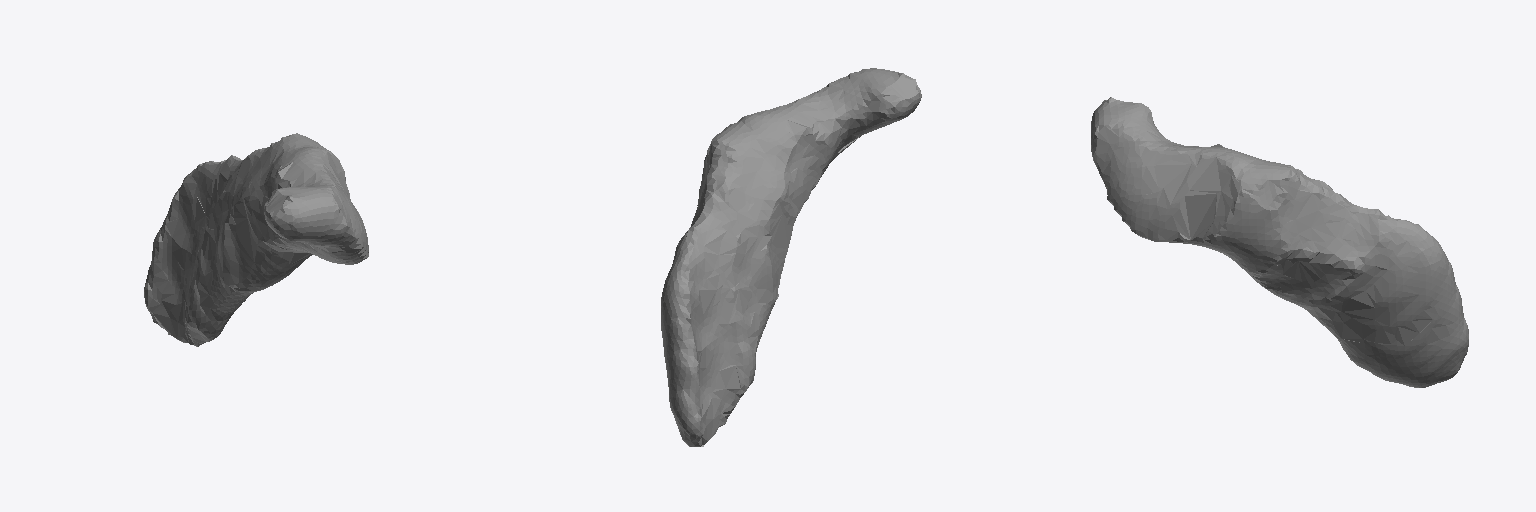
File: Model_697_RH__Inferior_cerebellar_peduncle_(icp).obj
The picture shows the model from 3 angles: view 1: azimuth 30°, elevation 25°; view 2: azimuth 150°, elevation 25°; view 3: azimuth 270°, elevation 25°; orthographic projection.
Size of the model in its own units: 2.06 by 3.81 by 4.89.